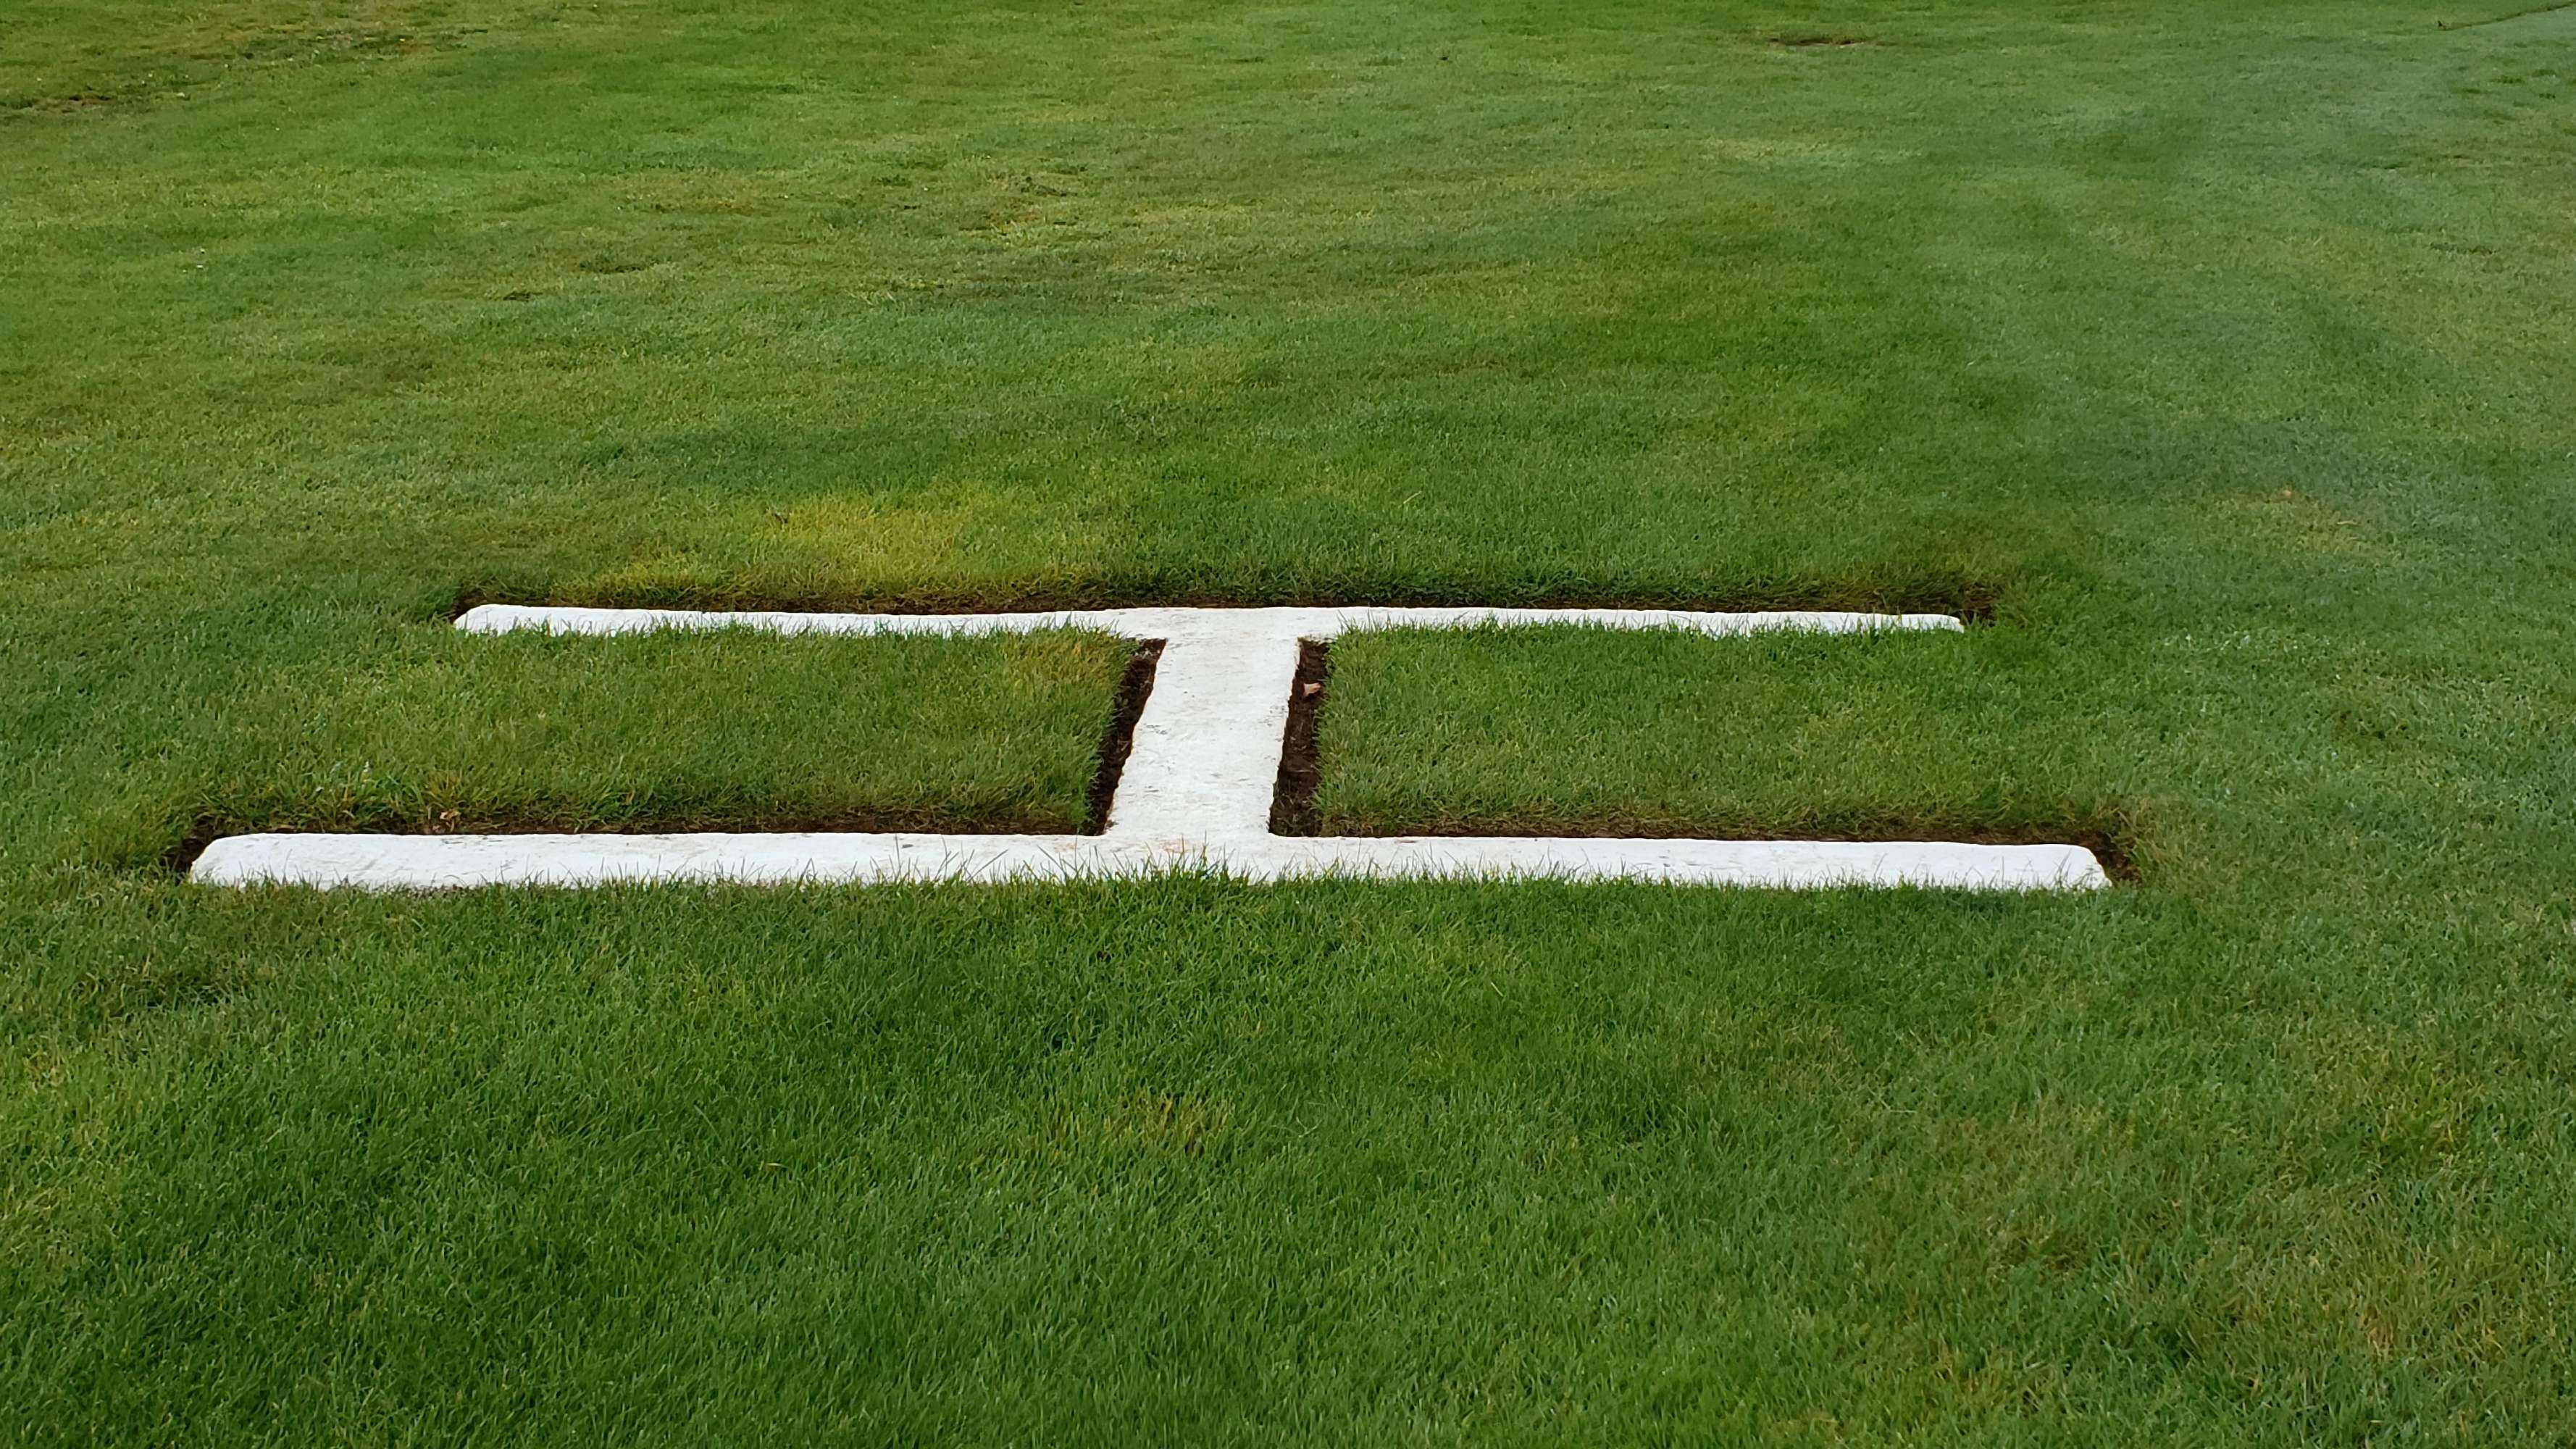H: (182, 594, 2125, 897)
